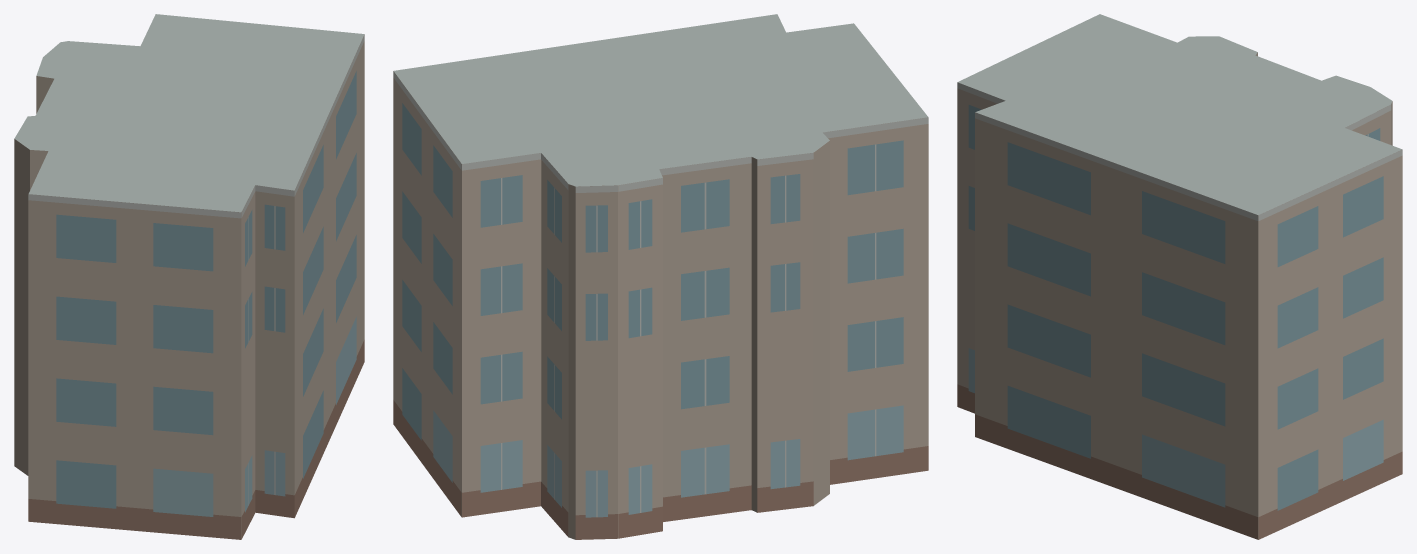
Rendered from survey-upis-32751985.glb.
3 renders of one model, left to right at view 1: azimuth 30°, elevation 25°; view 2: azimuth 150°, elevation 25°; view 3: azimuth 270°, elevation 25°, orthographic. The views are drawn at different scales.
Visible parts, largest first — view 1: survey-upis-32751985.tmp; view 2: survey-upis-32751985.tmp; view 3: survey-upis-32751985.tmp.
Boxes of the visible parts, <box> form: survey-upis-32751985.tmp: <box>14,14,364,539</box>; survey-upis-32751985.tmp: <box>393,14,928,539</box>; survey-upis-32751985.tmp: <box>957,14,1402,539</box>.
Size of the model in its own units: 17.4 by 13.08 by 16.27.
